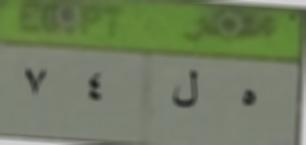4: (83, 68, 107, 108)
7: (17, 61, 54, 103)
haa: (235, 76, 268, 121)
laam: (165, 63, 205, 115)
